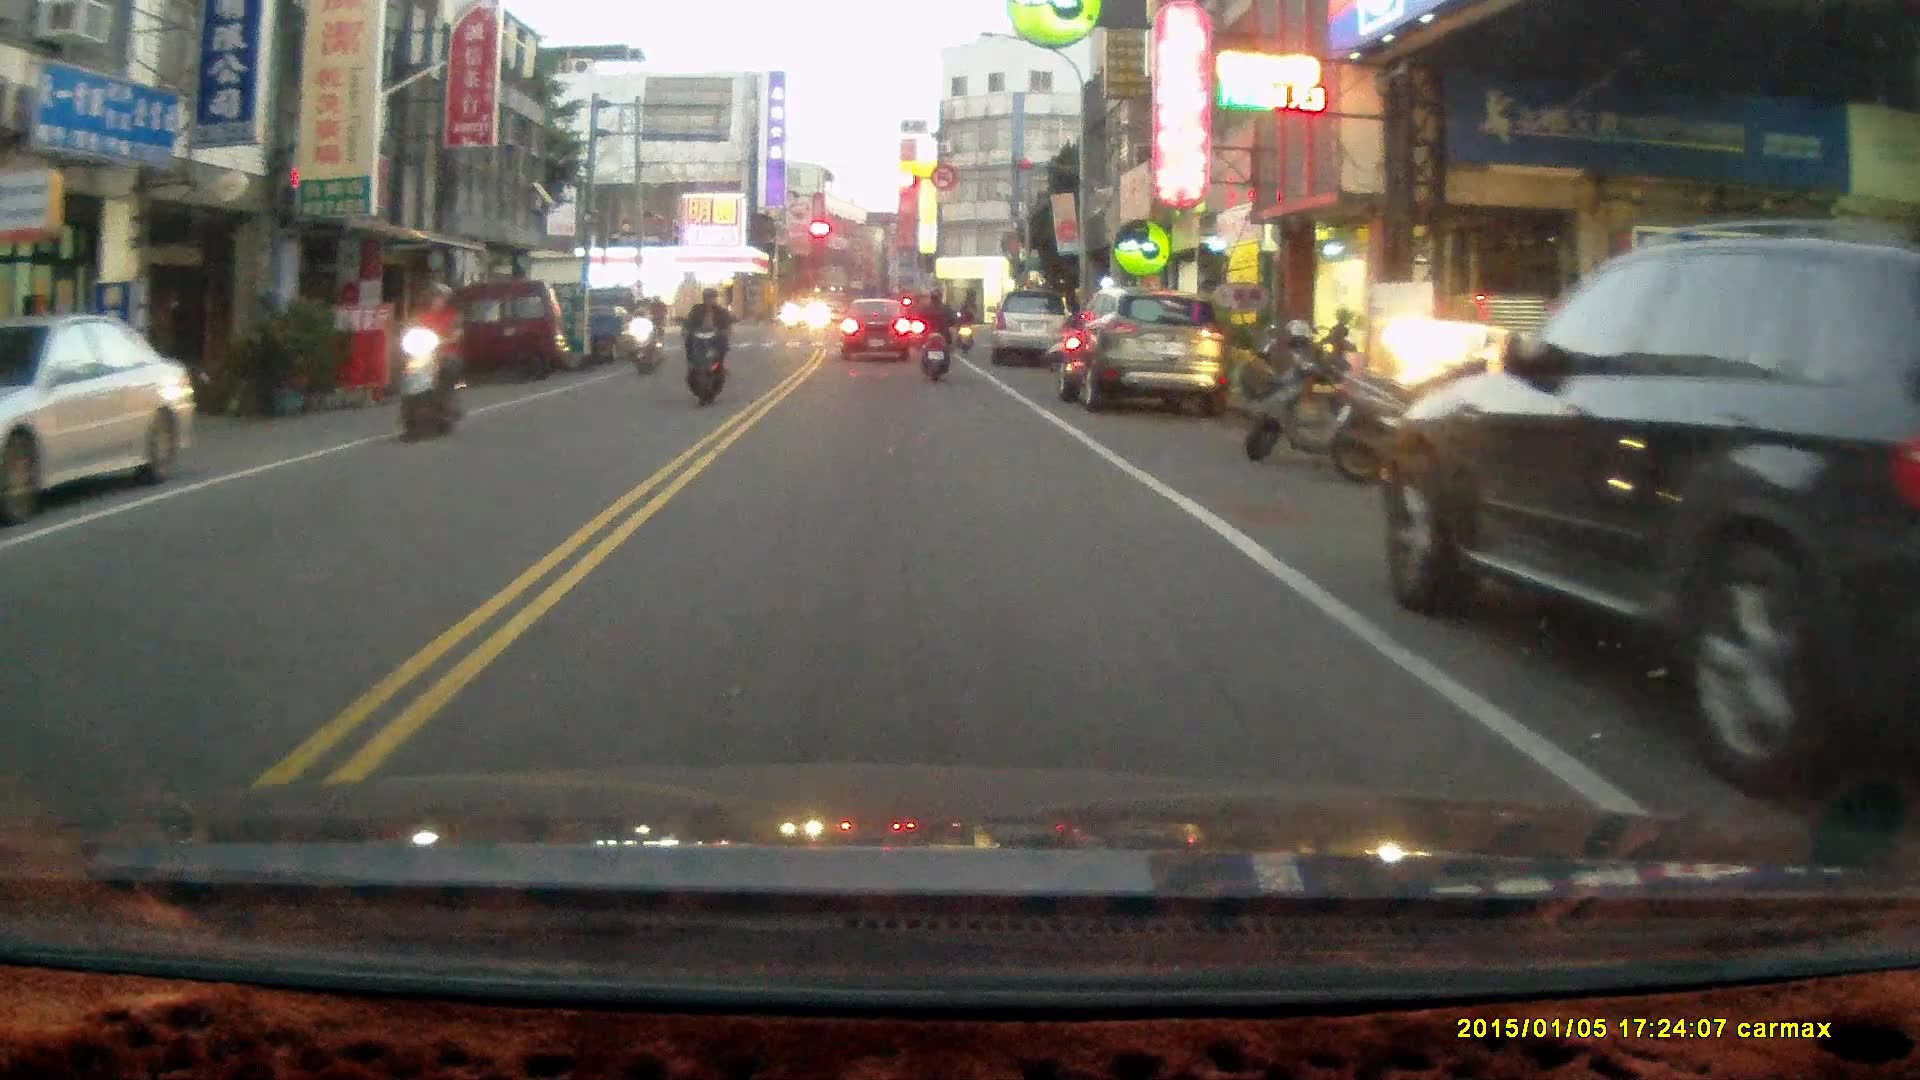rider: (394, 280, 470, 439), (679, 280, 726, 405), (913, 285, 954, 382), (626, 290, 663, 376), (954, 294, 977, 353)
vehicle: (1379, 231, 1920, 801), (1, 315, 193, 515), (1057, 288, 1226, 410), (408, 277, 573, 383), (996, 284, 1075, 363)
